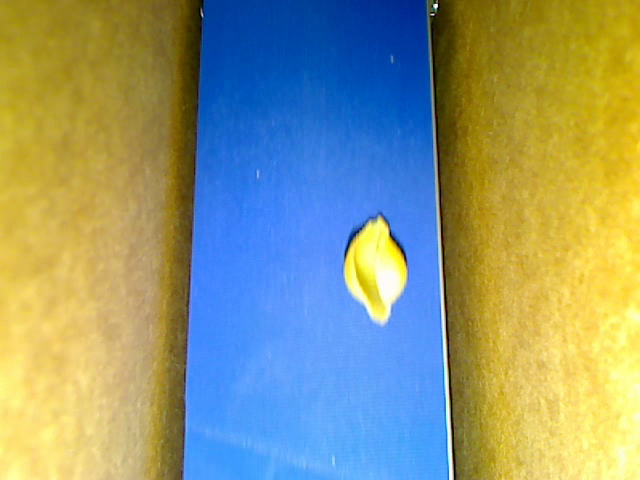shell: (342, 214, 407, 325)
